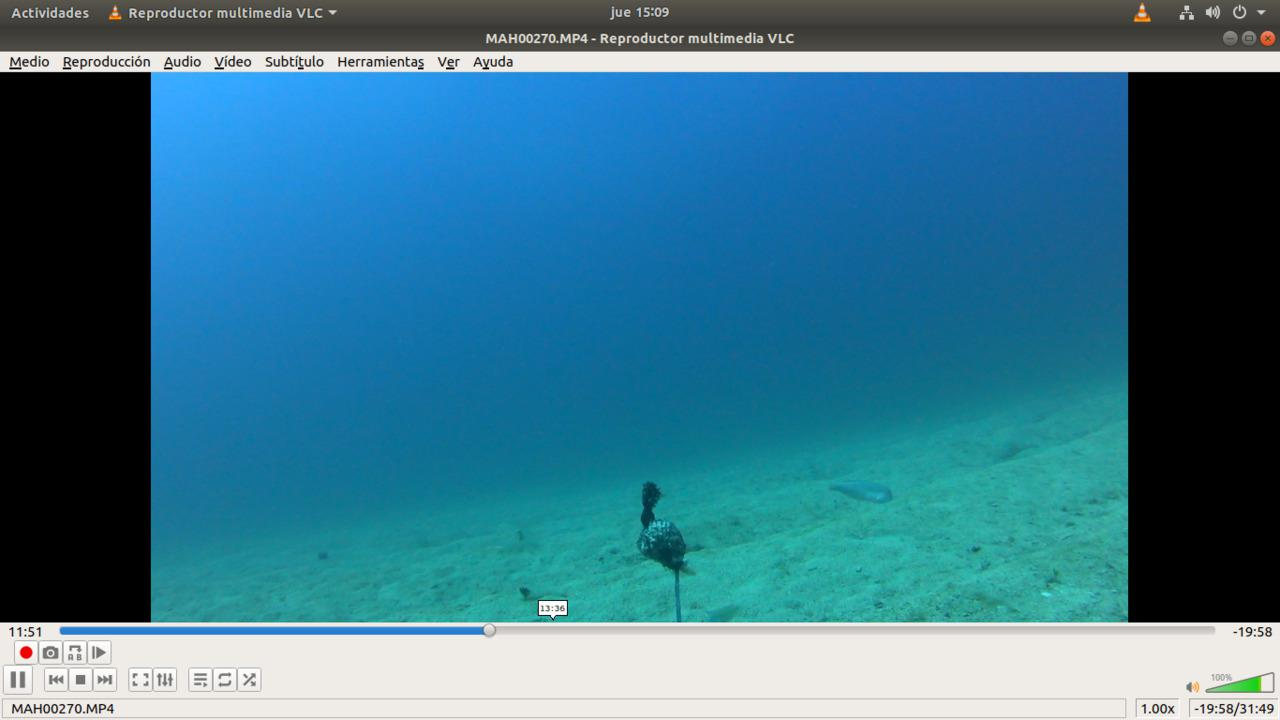raor: (818, 476, 903, 511)
